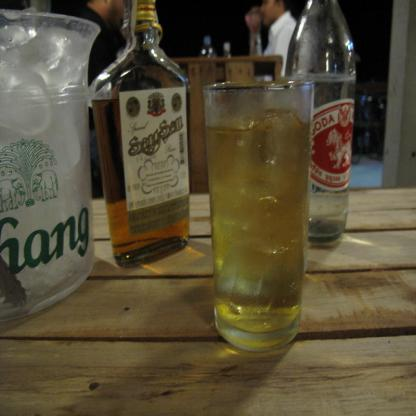drinking: (90, 0, 192, 269)
